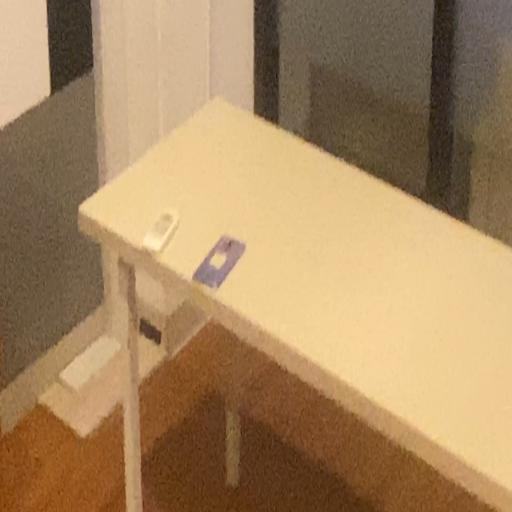hp: (188, 227, 254, 295)
meja: (73, 81, 511, 512)
remote AC: (141, 198, 184, 270)
